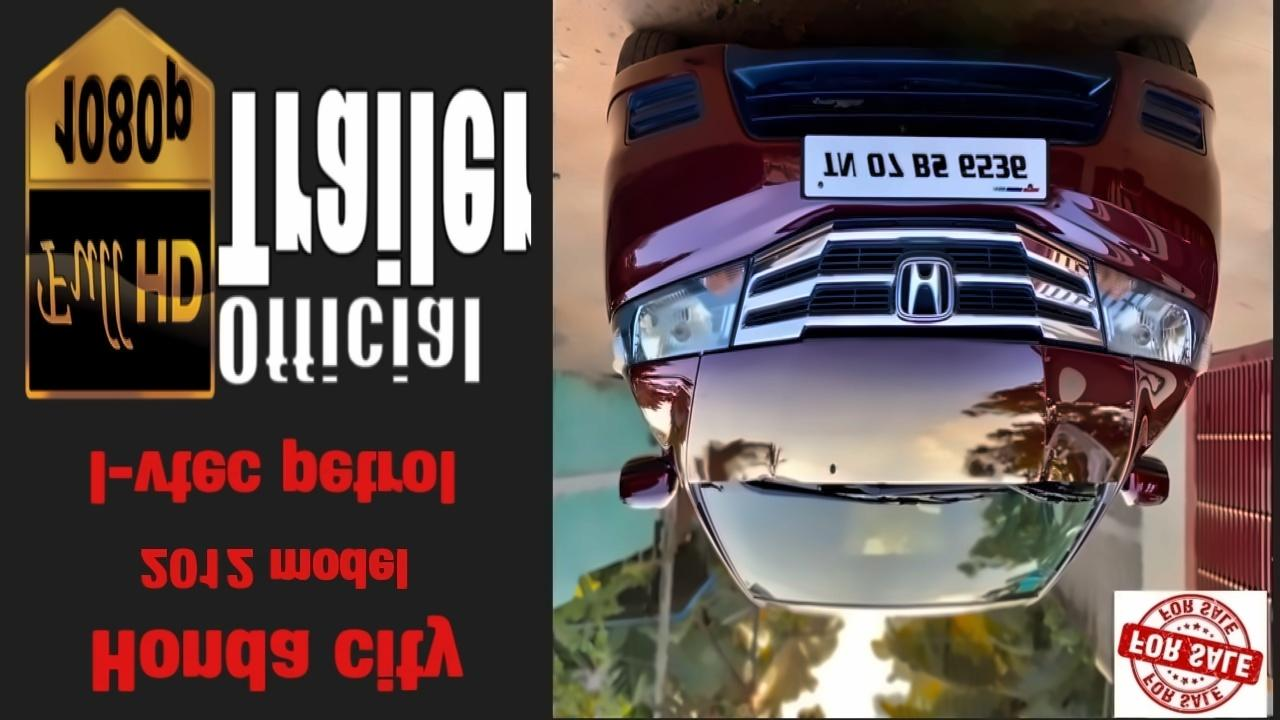Car hood: (618, 338, 1205, 498)
Front bumper: (595, 6, 1234, 279)
Headlight - -L-: (598, 250, 759, 377)
Headlight - -R-: (1076, 246, 1217, 379)
Side mirror - -L-: (614, 444, 704, 515)
Side mirror - -R-: (1112, 446, 1183, 524)
